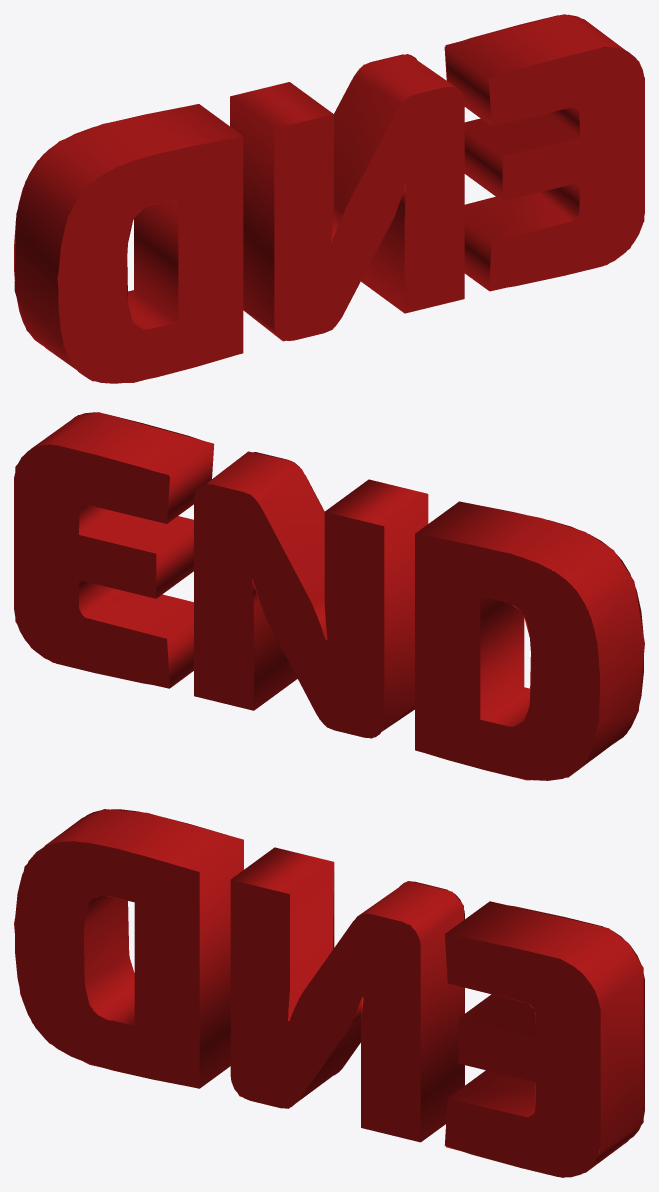
Rendered from end.fbx.
3 renders of one model, top to bottom at view 1: azimuth 30°, elevation 25°; view 2: azimuth 150°, elevation 25°; view 3: azimuth 330°, elevation 25°, orthographic.
Parts seen in each view (by area): view 1: Text; view 2: Text; view 3: Text.
Part boxes in pixels (box(x1,y1,x2,y2)): Text: box(14, 14, 644, 383); Text: box(14, 412, 644, 780); Text: box(14, 809, 644, 1177).
Size of the model in its own units: 6.13 by 2.23 by 0.8.
